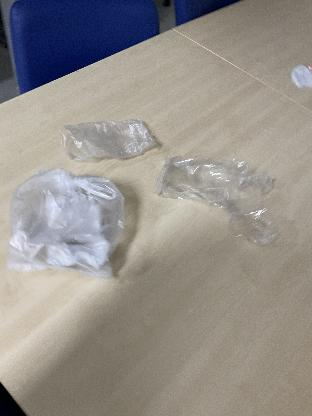Others: (4, 166, 144, 282), (155, 152, 293, 250), (58, 106, 164, 172)
